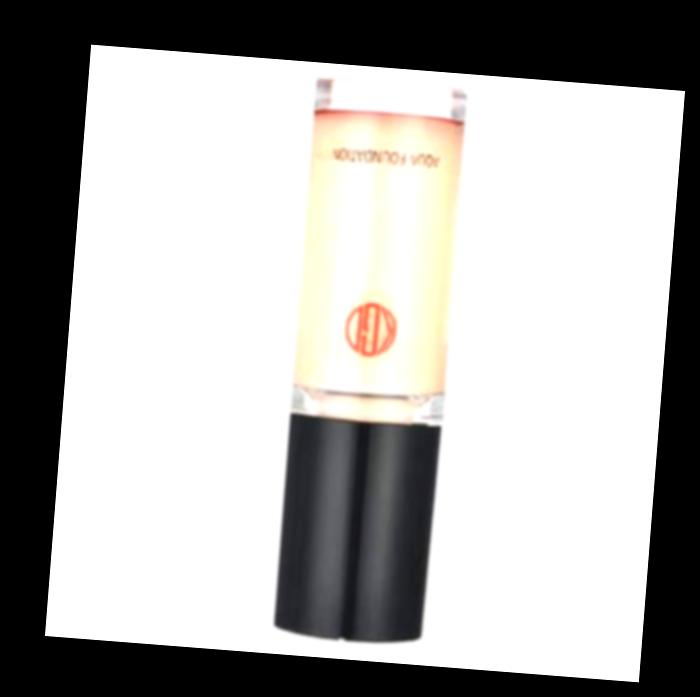cosmetic: (267, 72, 471, 646)
